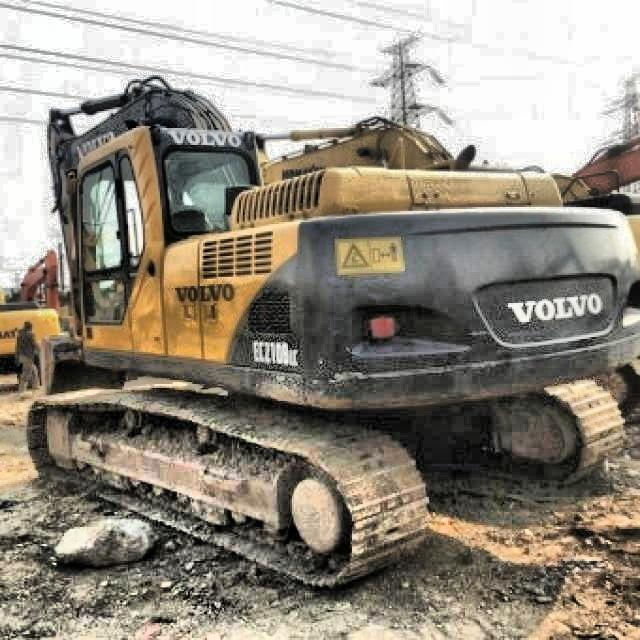bull_dozer/loader/grader: (23, 66, 640, 593), (0, 288, 59, 384), (11, 244, 66, 315)
person: (12, 316, 46, 406)
